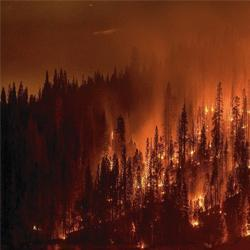fire: (189, 191, 208, 230), (136, 171, 166, 191), (203, 103, 218, 112)
